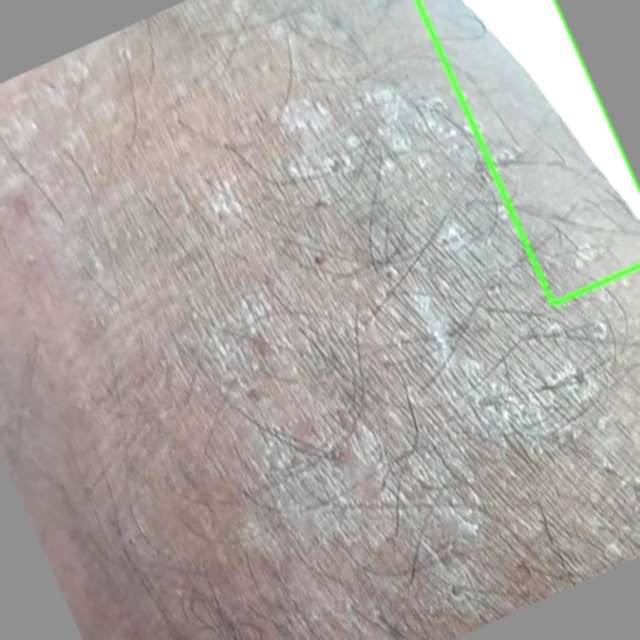Contact Dermatitis: (417, 0, 639, 304)
